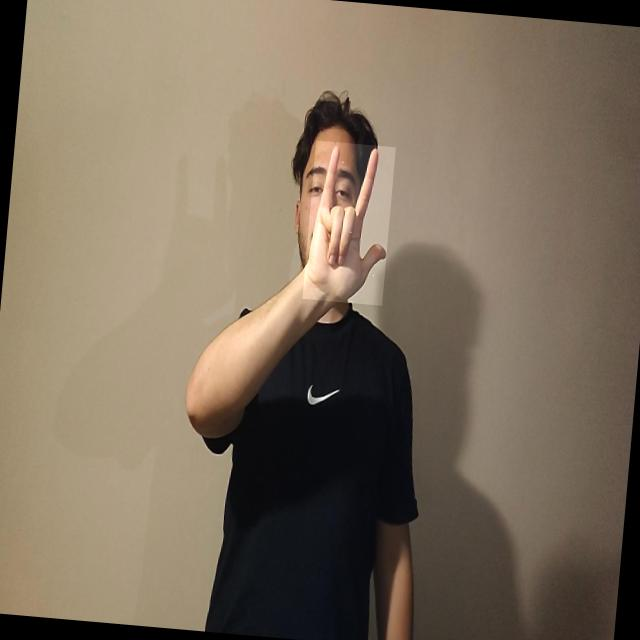iloveyou: (302, 140, 395, 305)
